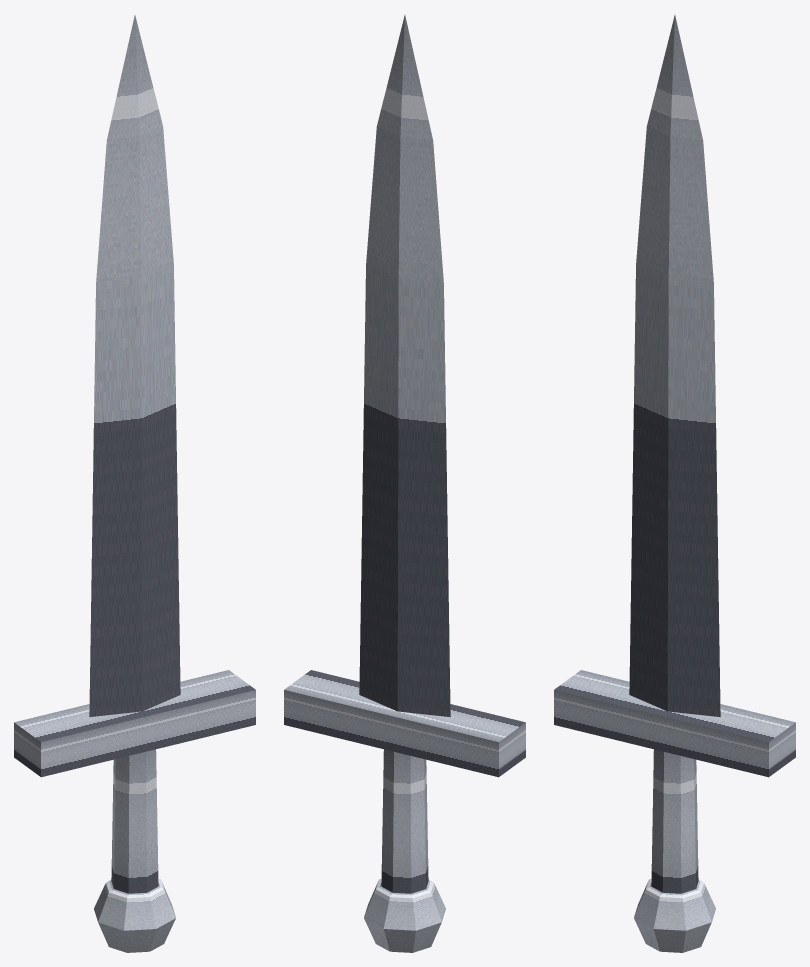
File: espada_ferro.glb
3 views of the same model, side by side, from view 1: azimuth 30°, elevation 25°; view 2: azimuth 150°, elevation 25°; view 3: azimuth 330°, elevation 25° (orthographic).
Visible parts, largest first — view 1: espada_ferro; view 2: espada_ferro; view 3: espada_ferro.
Boxes of the visible parts, x1,y1,x2,y2 form: espada_ferro: (14,15,255,952); espada_ferro: (284,15,525,952); espada_ferro: (554,15,795,952).
Size of the model in its own units: 0.32 by 1.34 by 0.11.
1 material, 1 textured.
